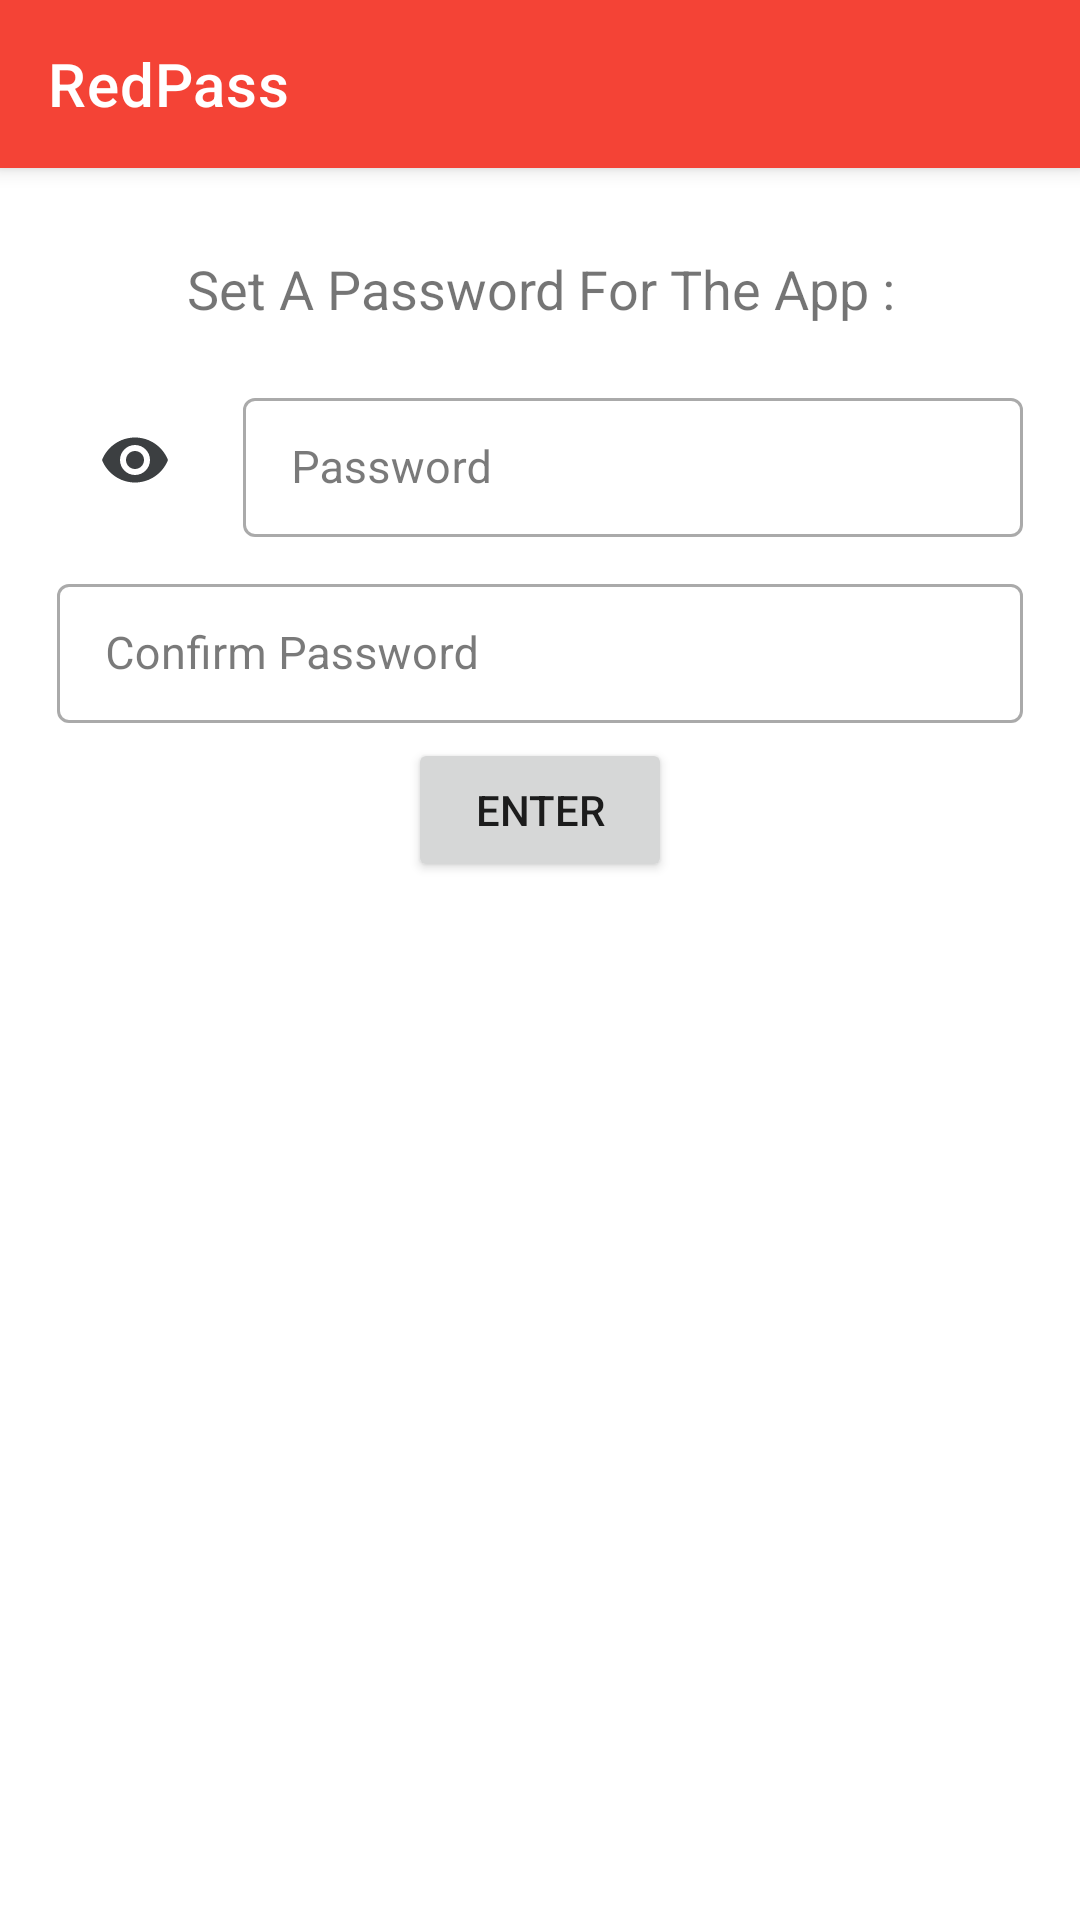

Icon bounding boxes for this 1080*1920 phone screenshot, format (x1, y1, x2, y2):
show: (102, 437, 168, 483)
